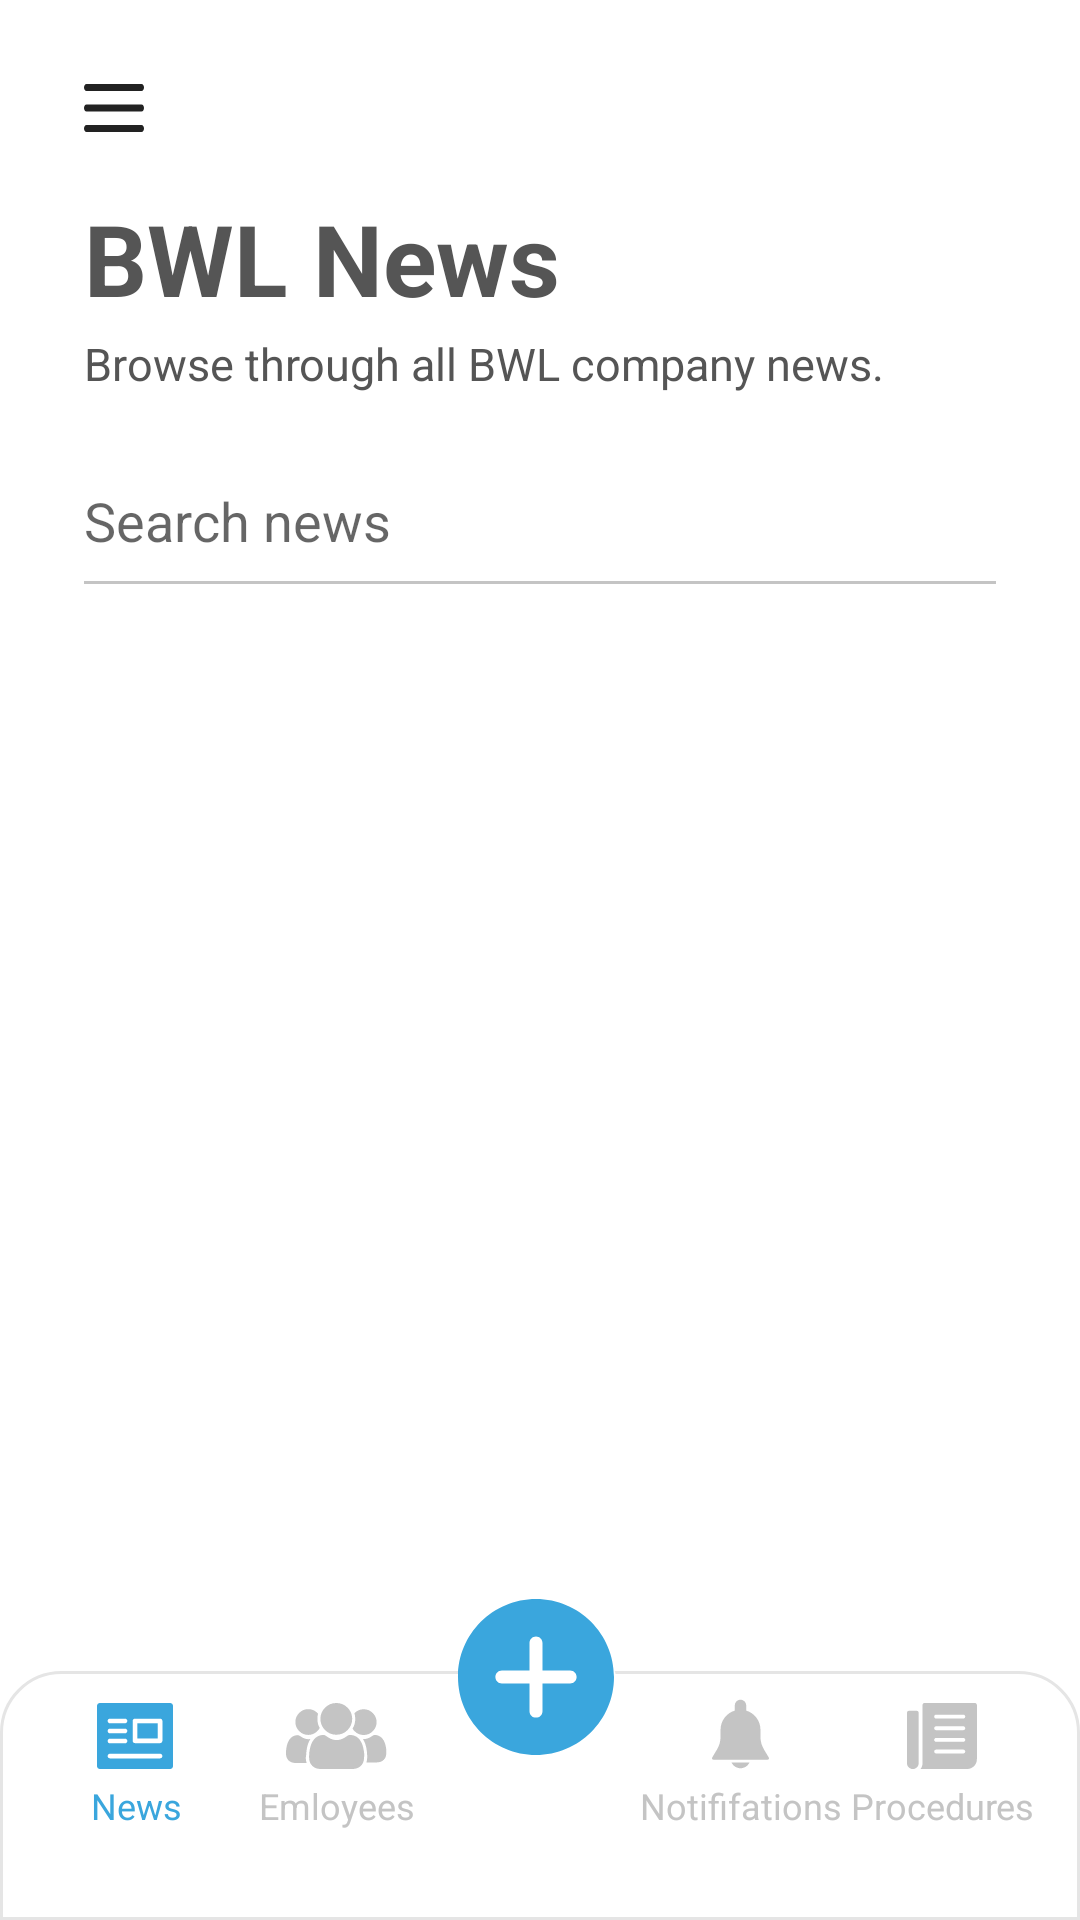

Locate icon controls on the screen. Image size 1080×1920, boxes as [x1, y1, x2, y2].
Slide menu: [84, 84, 144, 132]
